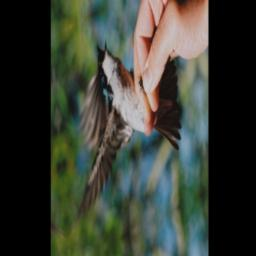Swallow: (54, 0, 187, 239)
